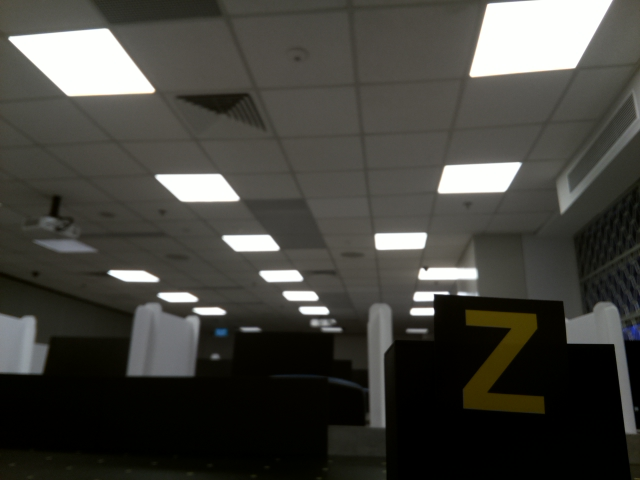z: (457, 303, 548, 422)
